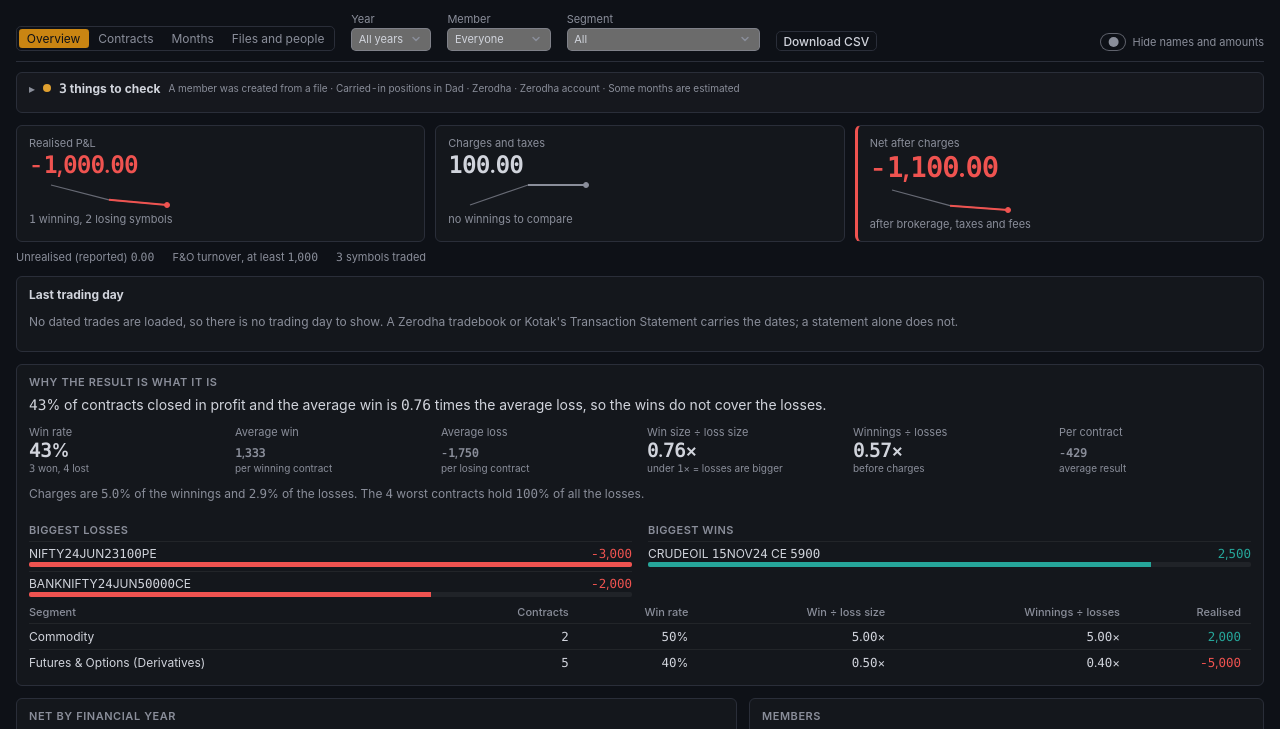
Test: the months tab draws every day of the financial year as a square, coloured by the result, with the estimates marked, above the month table
expect the text "Net after charges" is shown: met, box left=870, top=136, right=960, bottom=150
Step 1. Press the mouse on the tab "Months" → (193, 38), box left=163, top=29, right=222, bottom=48
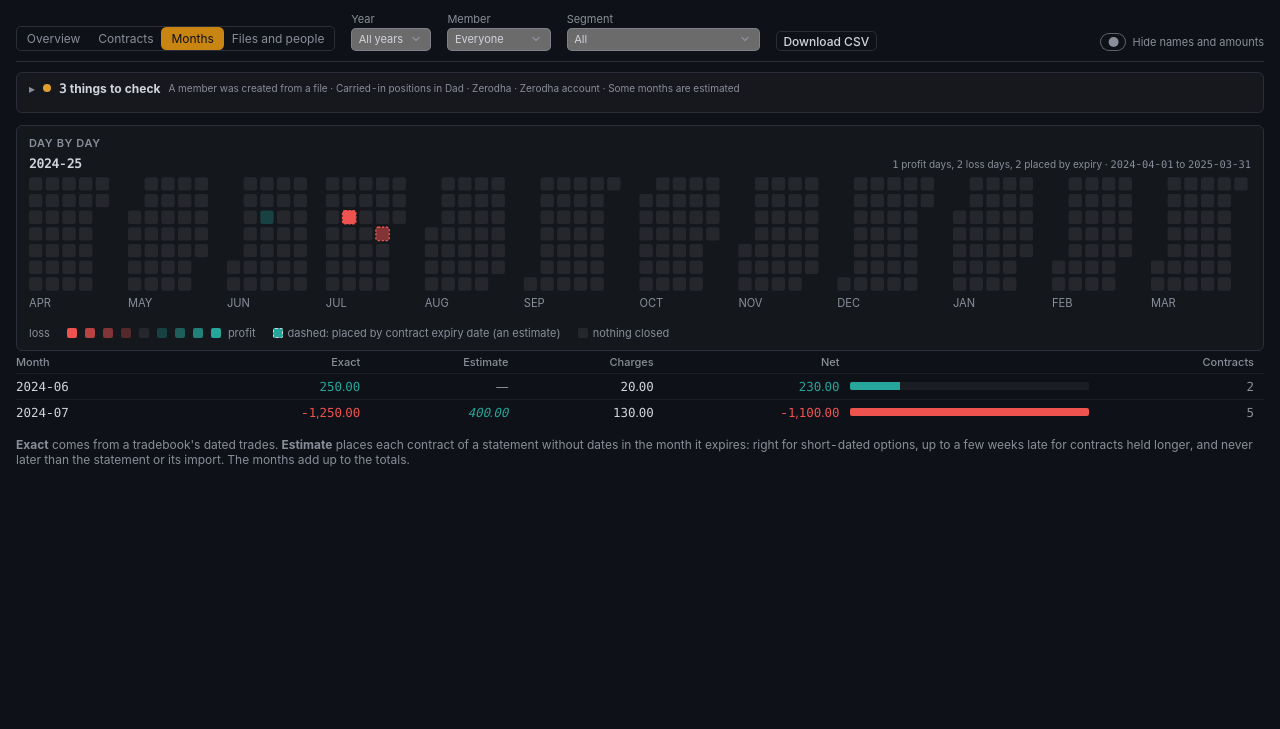
expect the text "dashed: placed by contract expiry date (an estimate)" is shown: met, box left=272, top=326, right=561, bottom=340
expect the text "-1,250.00" is shown: met, box left=301, top=405, right=360, bottom=420
expect the text "400.00" is shown: met, box left=468, top=405, right=508, bottom=420
